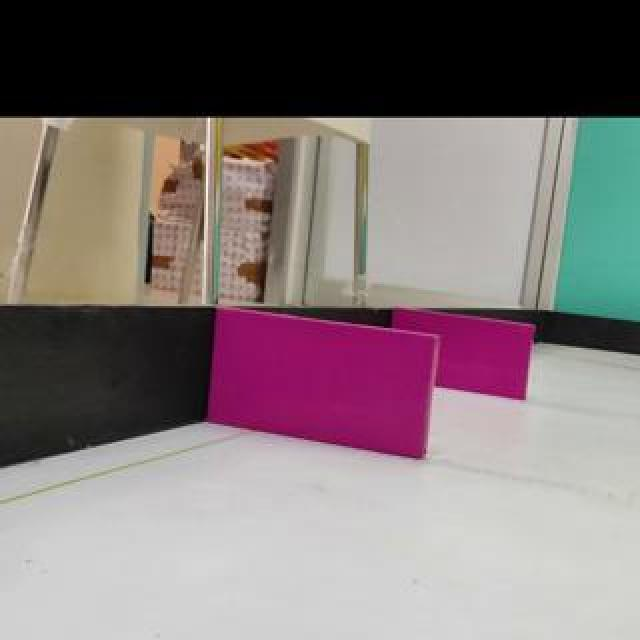xparking: (208, 307, 436, 458), (437, 314, 532, 400)
